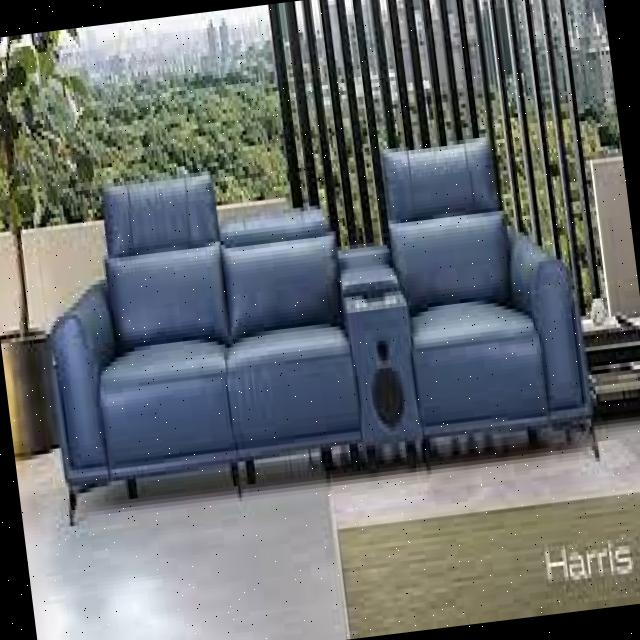Sofa: (13, 94, 623, 544)
